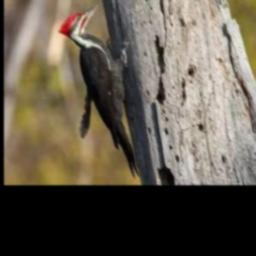Woodpecker: (58, 2, 140, 178)
